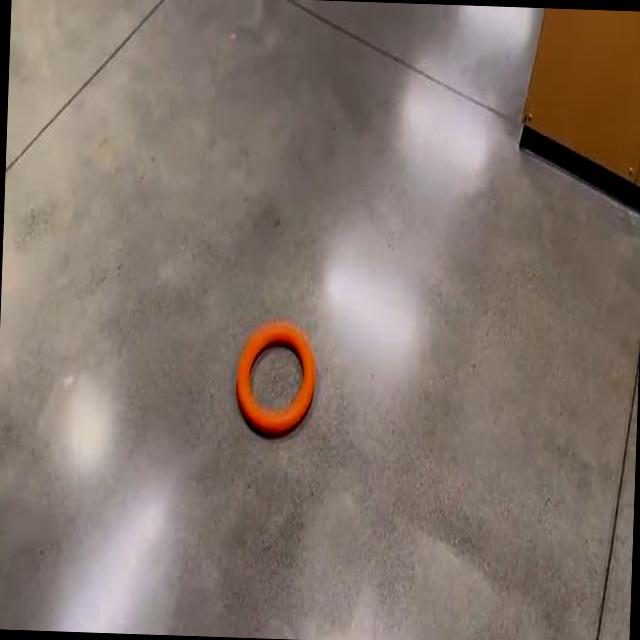note: (237, 321, 314, 433)
